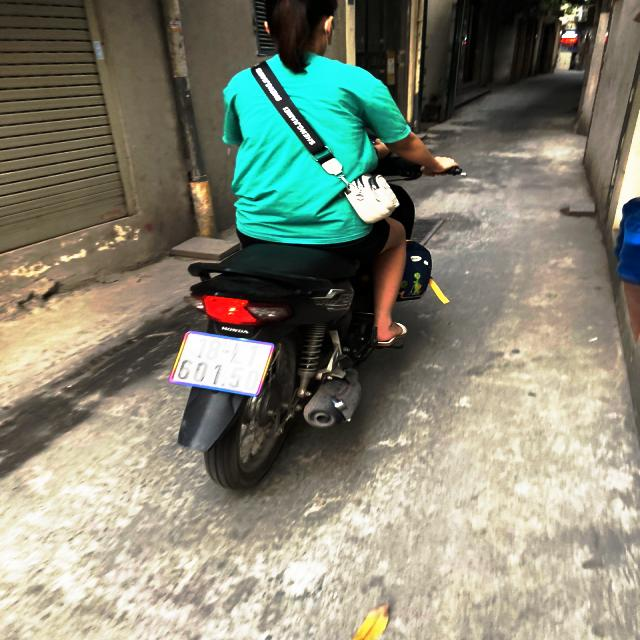license_plate: (167, 330, 278, 398)
